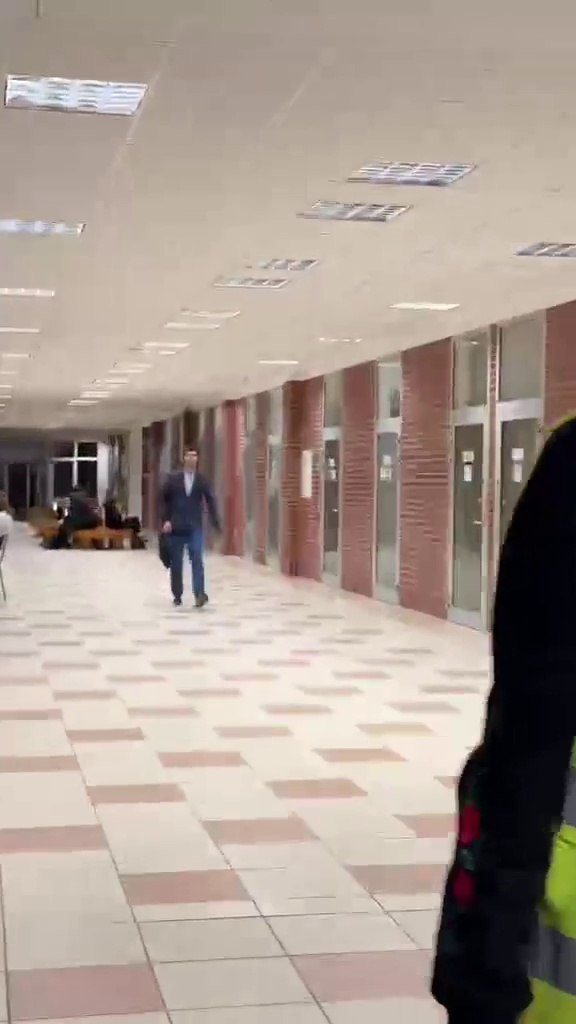no vest: (155, 443, 220, 612)
vest: (439, 385, 576, 1024)
